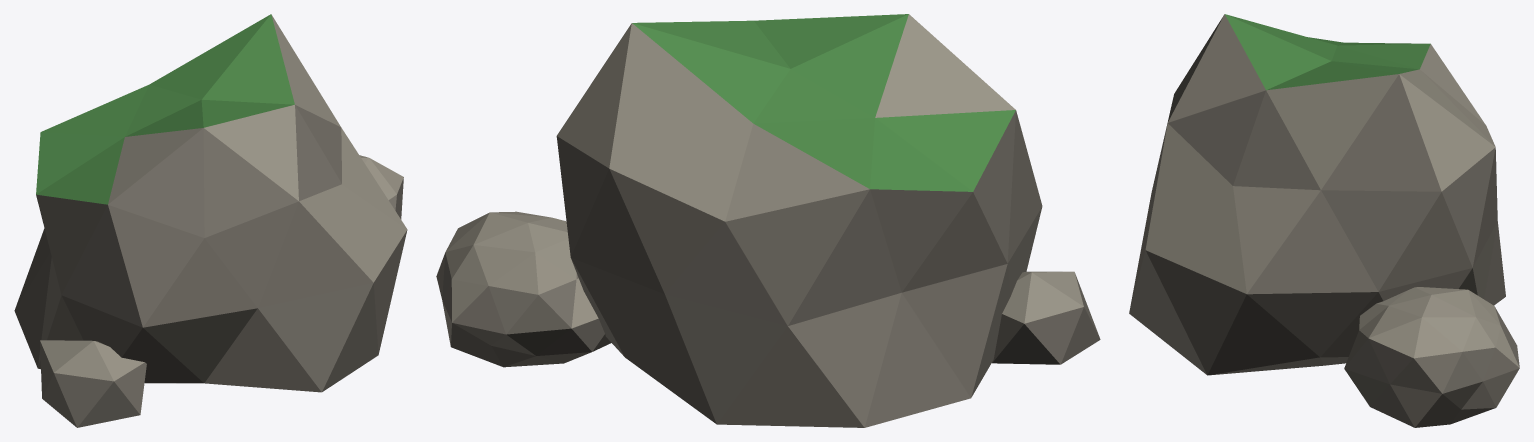
Rendered from boulder_large.glb.
3 renders of one model, left to right at view 1: azimuth 30°, elevation 25°; view 2: azimuth 150°, elevation 25°; view 3: azimuth 270°, elevation 25°, orthographic. The views are drawn at different scales.
Parts seen in each view (by area): view 1: Body; view 2: Body; view 3: Body.
Part boxes in pixels (x1=…): Body: x1=14, y1=14, x2=407, y2=427; Body: x1=436, y1=14, x2=1100, y2=427; Body: x1=1129, y1=14, x2=1519, y2=427.
Bounding box in the file's own units: 4.84 × 2.94 × 3.51.
